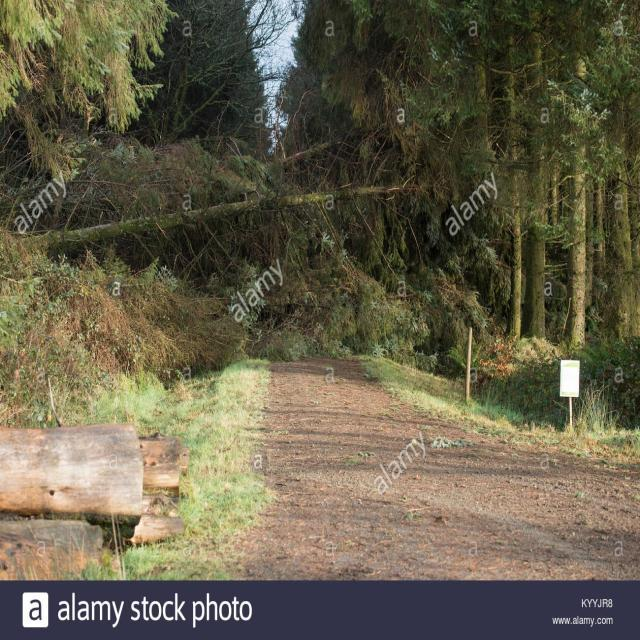fallen_object: (26, 151, 434, 264)
